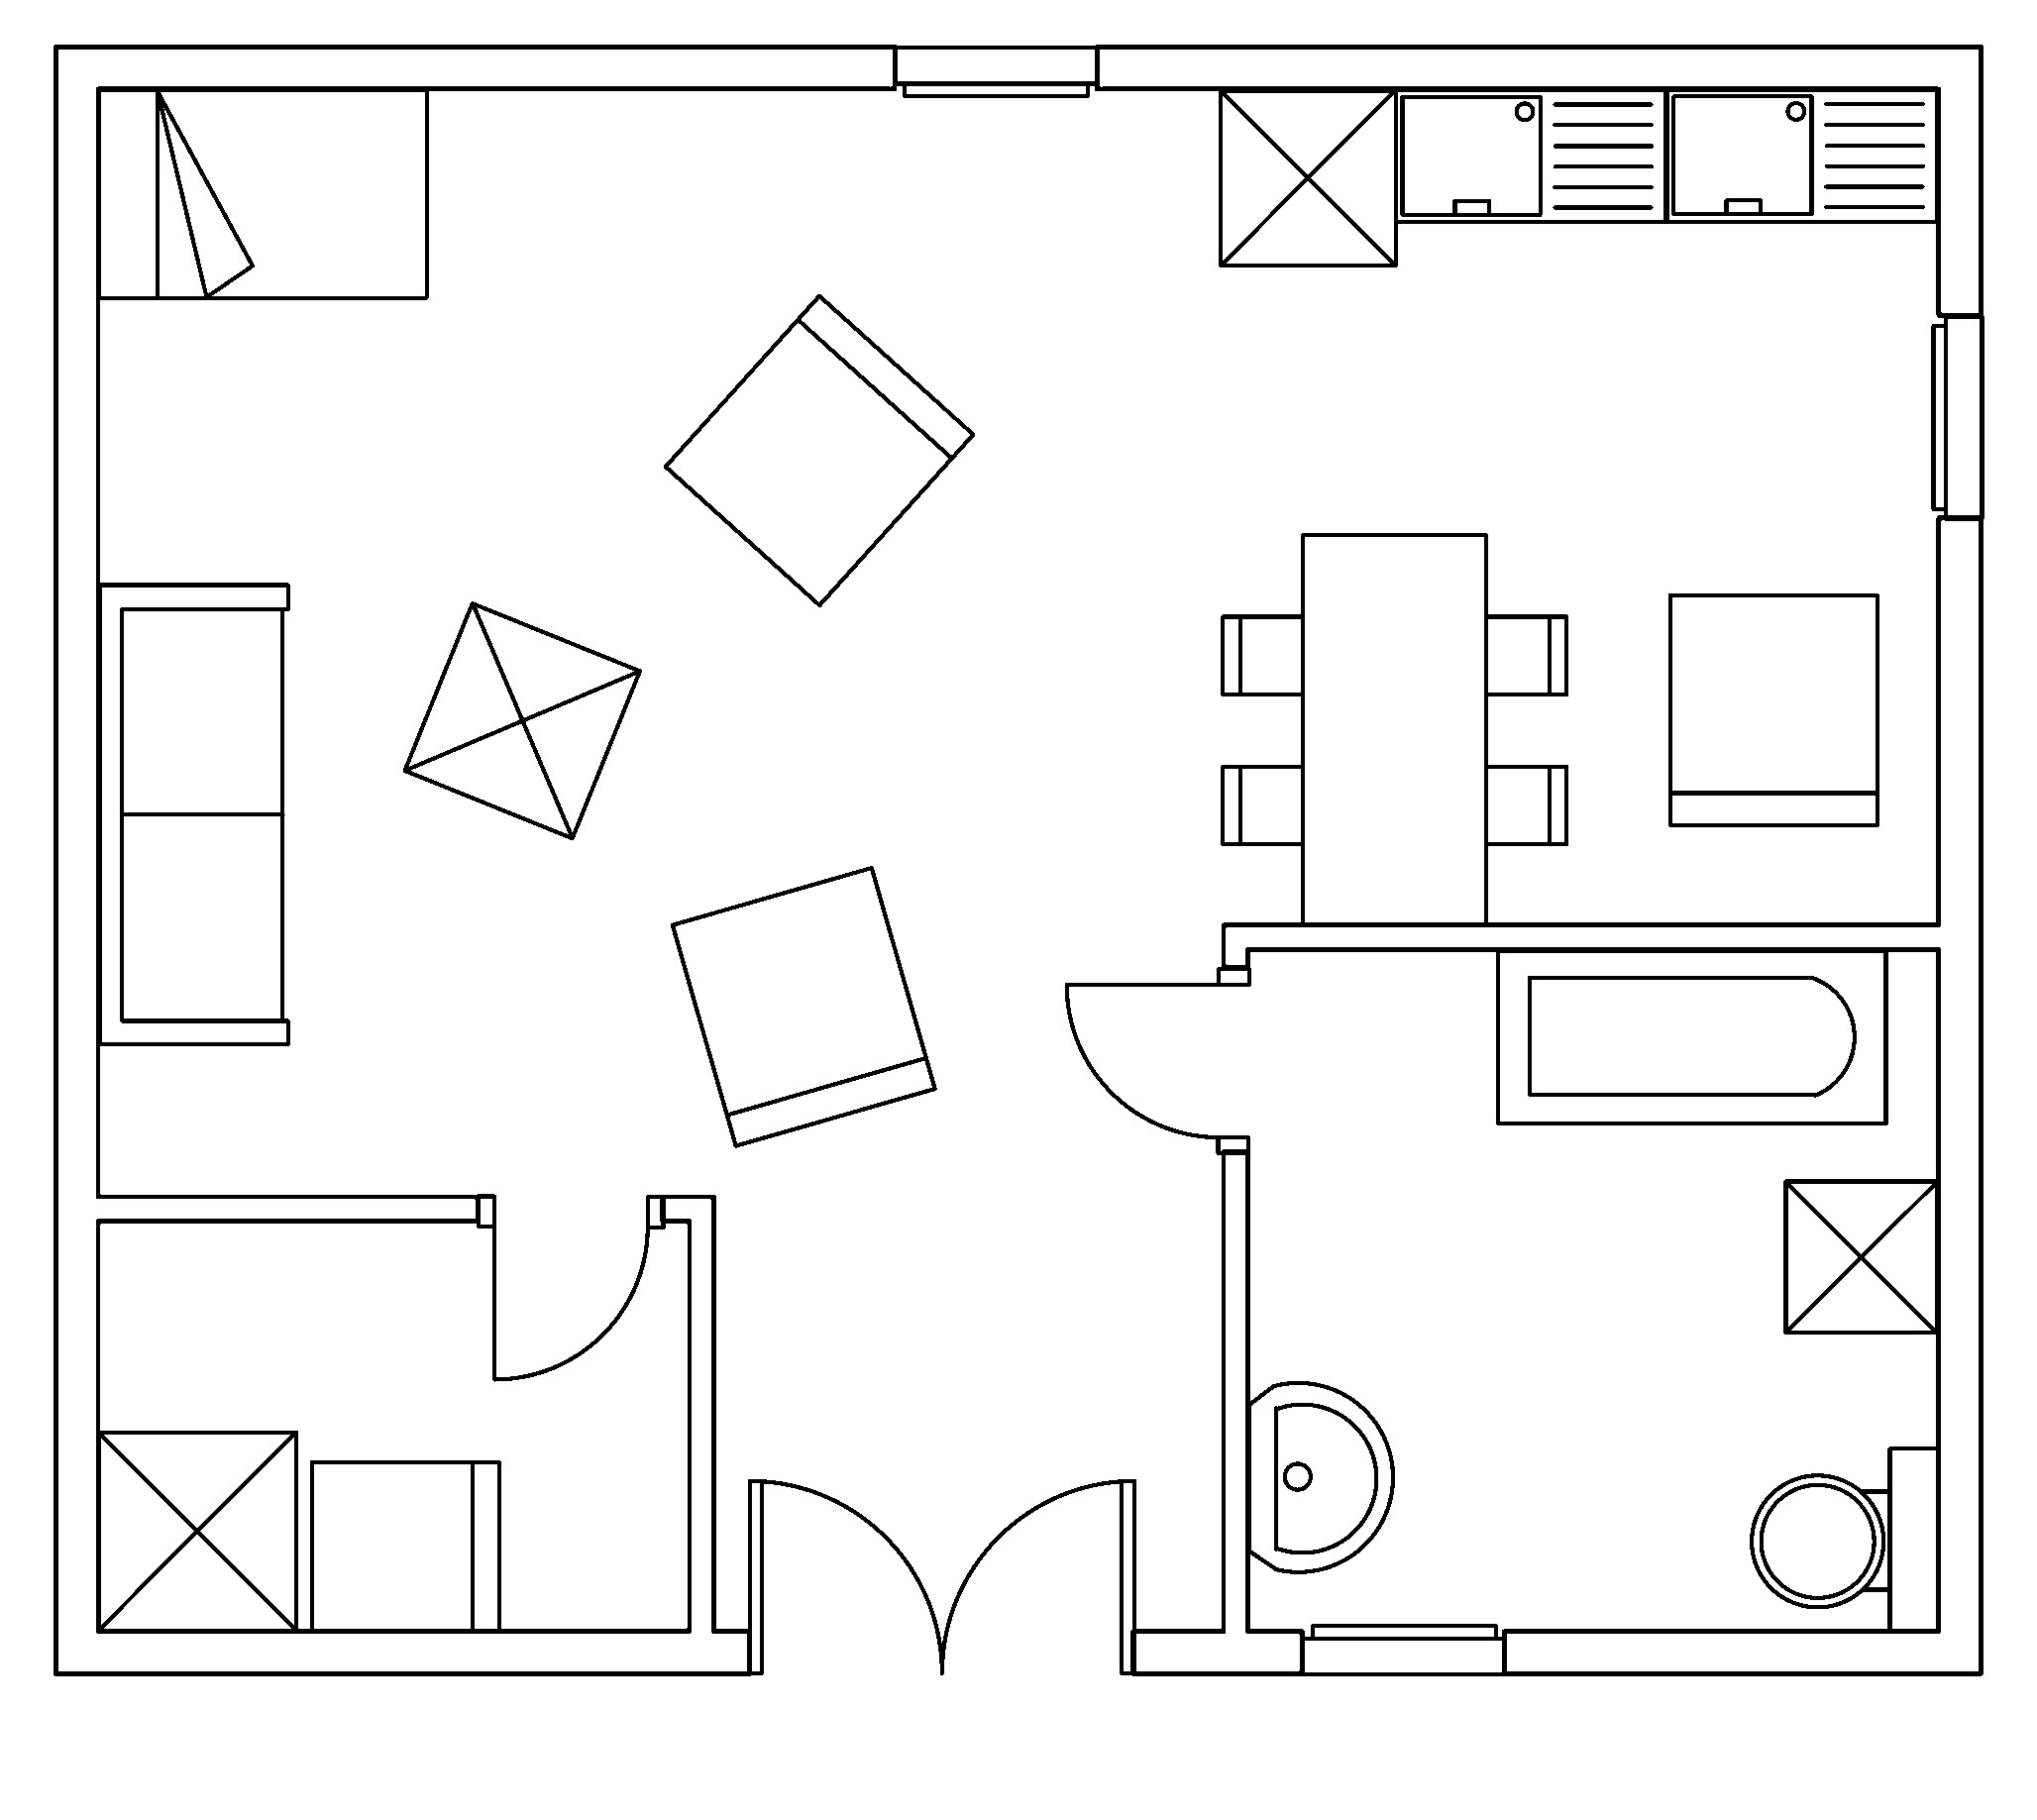bed: (95, 86, 428, 300)
coffee_table: (402, 599, 643, 840), (95, 1428, 299, 1632), (1217, 86, 1398, 267), (1781, 1177, 1940, 1335)
dining_table: (1219, 531, 1568, 926)
large_sink: (1749, 1444, 1940, 1632)
large_sofa: (95, 580, 290, 1047)
sink: (1663, 86, 1940, 223), (1393, 86, 1668, 223)
small_sink: (1245, 1381, 1394, 1572)
small_sofa: (662, 292, 976, 608), (669, 864, 938, 1149), (1666, 592, 1879, 827), (307, 1458, 500, 1632)
tub: (1494, 947, 1888, 1126)
